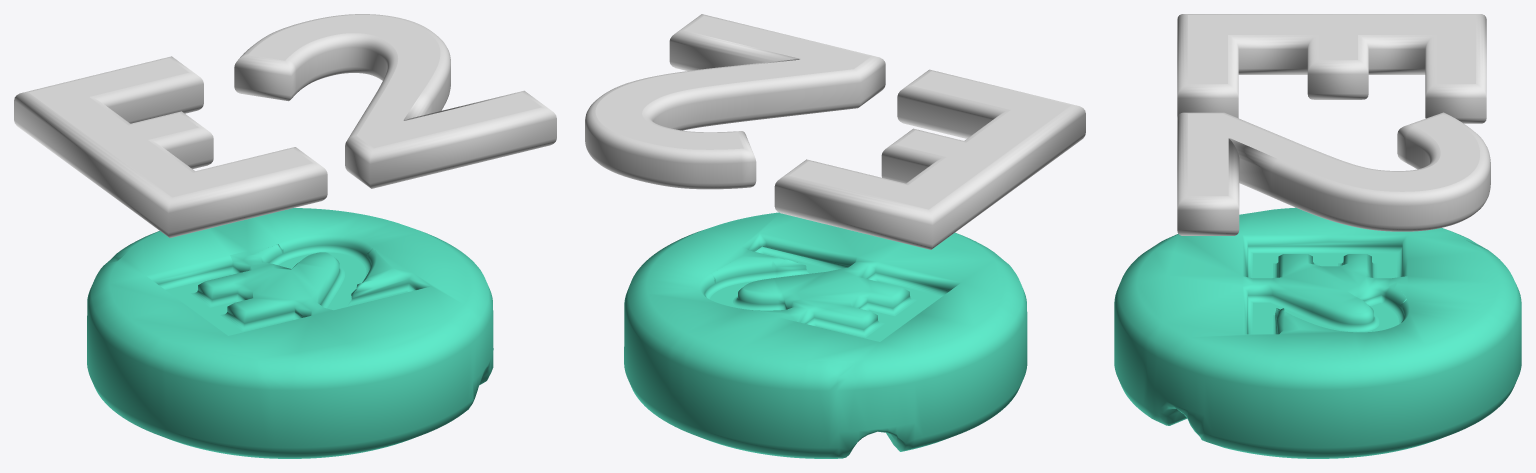
The model's file is estradiol-tablet.glb.
The picture shows the model from 3 angles, left to right: view 1: azimuth 30°, elevation 25°; view 2: azimuth 150°, elevation 25°; view 3: azimuth 270°, elevation 25°; orthographic projection.
Visible parts, largest first — view 1: Cylinder, Text; view 2: Cylinder, Text; view 3: Cylinder, Text.
Part boxes in pixels (left/top/right/bottom): Cylinder: left=87, top=208, right=493, bottom=458; Text: left=14, top=14, right=556, bottom=237; Cylinder: left=624, top=212, right=1027, bottom=458; Text: left=585, top=14, right=1085, bottom=249; Cylinder: left=1114, top=207, right=1521, bottom=458; Text: left=1177, top=14, right=1490, bottom=235.
Bounding box in the file's own units: 1.1 × 0.751 × 0.9972.
